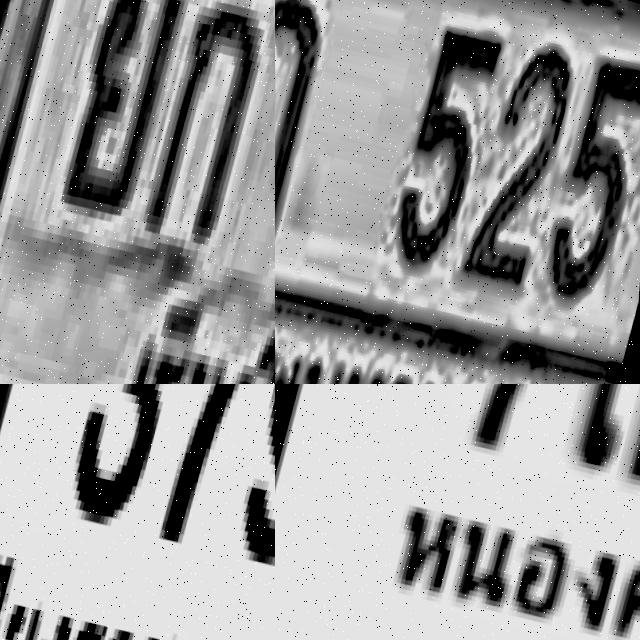license-plate: (275, 0, 640, 384), (0, 0, 275, 384), (275, 384, 640, 640), (0, 384, 275, 640)
